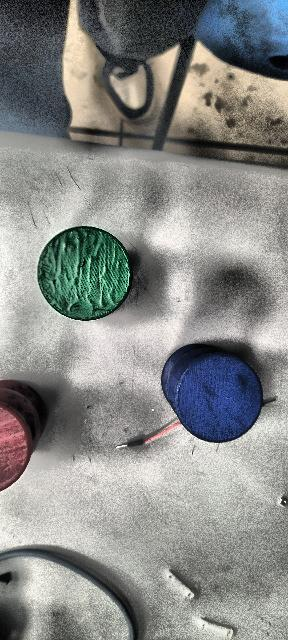blue: (161, 343, 264, 443)
green: (37, 225, 133, 321)
red: (0, 378, 54, 498)
